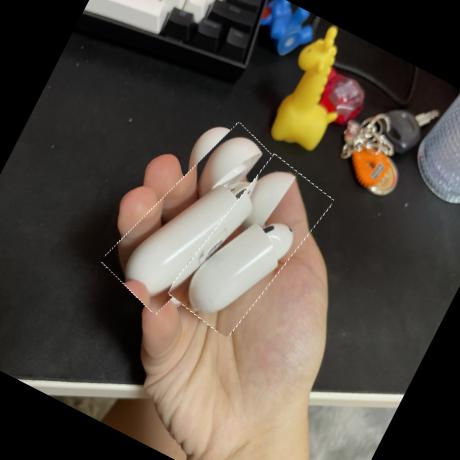airpod2: (104, 105, 290, 334)
airpod3: (168, 145, 332, 348)
